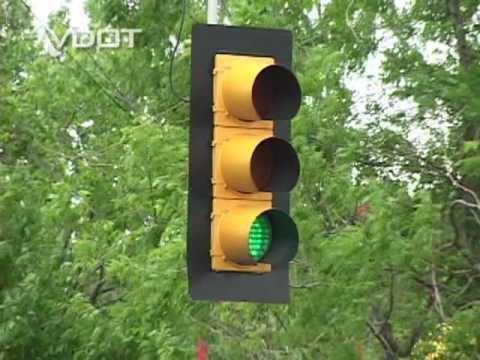2: (192, 23, 302, 304)
3: (216, 52, 301, 127), (214, 132, 303, 202)
red traffic light: (212, 203, 302, 274)
